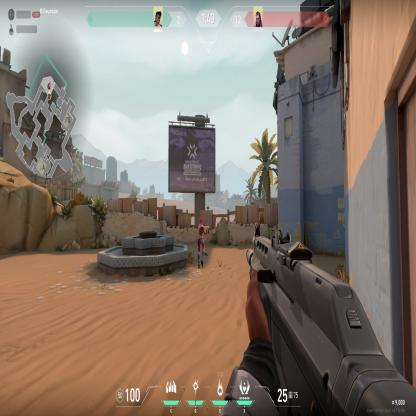enemy: (196, 217, 208, 269)
